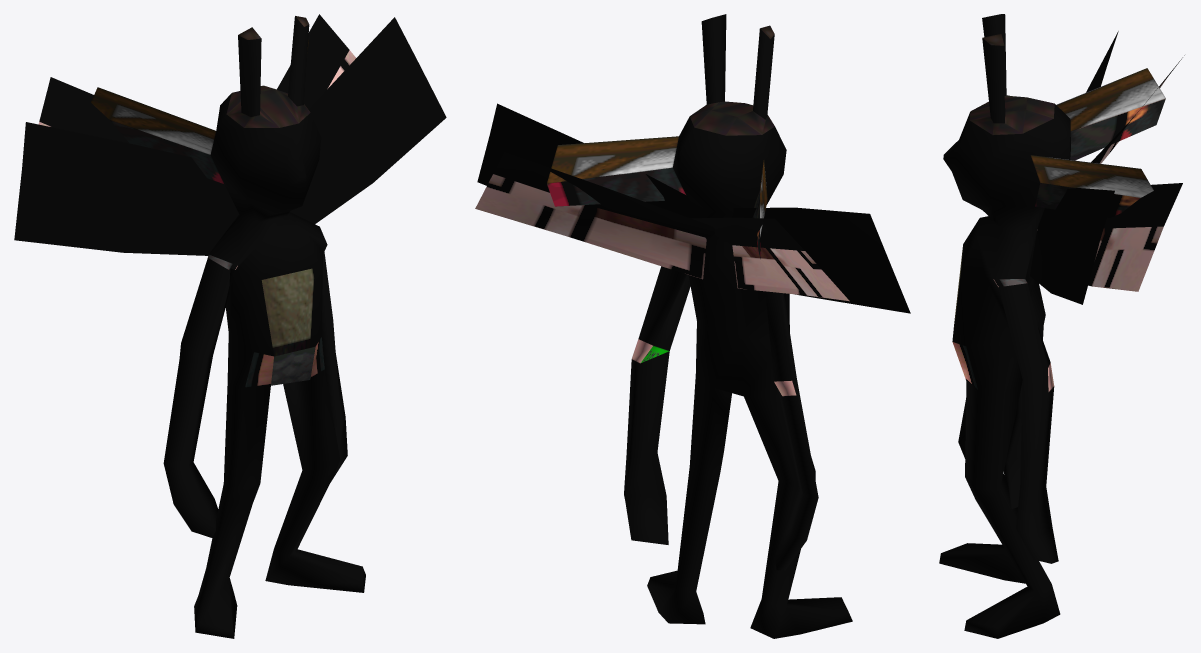
3 renders of one model, left to right at view 1: azimuth 30°, elevation 25°; view 2: azimuth 150°, elevation 25°; view 3: azimuth 270°, elevation 25°, orthographic. The views are drawn at different scales.
Visible parts, largest first — view 1: T1L6M003_10; view 2: T1L6M003_10; view 3: T1L6M003_10.
Part boxes in pixels (x1,y1,x2,y2): T1L6M003_10: [14, 14, 446, 638]; T1L6M003_10: [475, 14, 910, 638]; T1L6M003_10: [939, 14, 1184, 638].
Size of the model in its own units: 0.4013 by 0.5174 by 0.2021.
